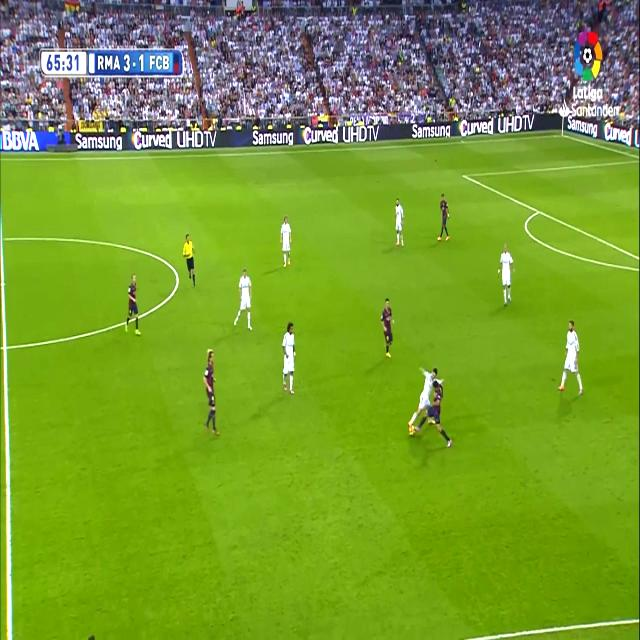corner: (558, 130, 566, 140)
halfcircle_bottom: (0, 329, 11, 362)
halfcircle_top: (0, 227, 7, 250)
top_arc_area_intersection: (534, 203, 542, 218)
